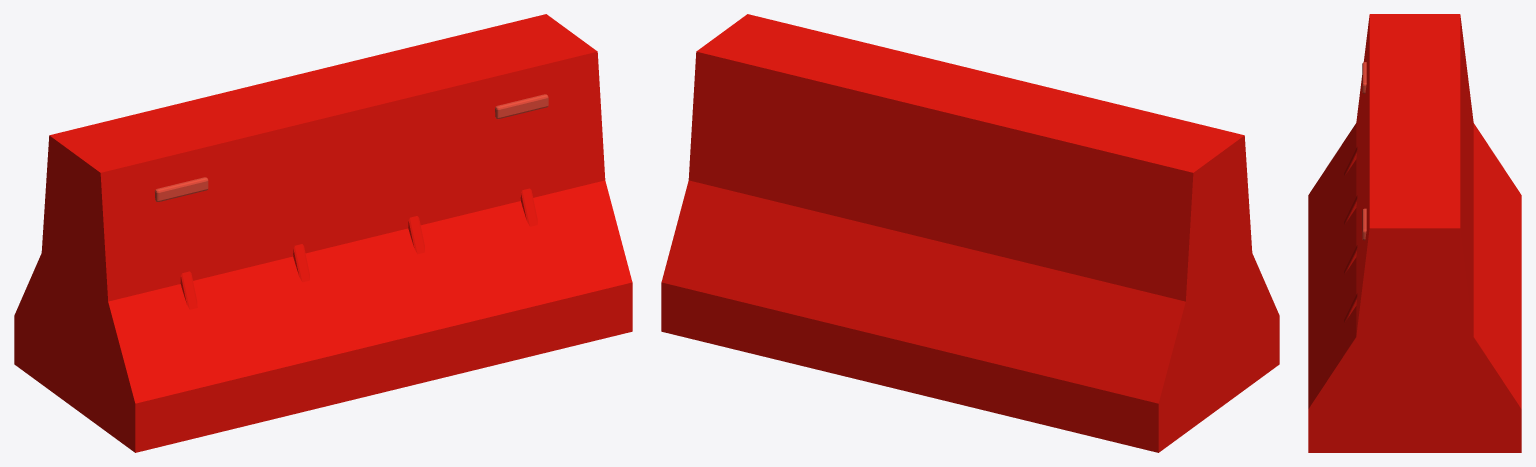
Rendered from TrafficBarrier.fbx.
The picture shows the model from 3 angles, left to right: view 1: azimuth 30°, elevation 25°; view 2: azimuth 150°, elevation 25°; view 3: azimuth 270°, elevation 25°; orthographic projection. The views are drawn at different scales.
Parts seen in each view (by area): view 1: TrafficBarrier; view 2: TrafficBarrier; view 3: TrafficBarrier.
Part boxes in pixels (x1,y1,x2,y2): TrafficBarrier: (14,14,632,452); TrafficBarrier: (661,14,1279,452); TrafficBarrier: (1308,14,1521,452).
Bounding box in the file's own units: 190 × 93 × 80.
